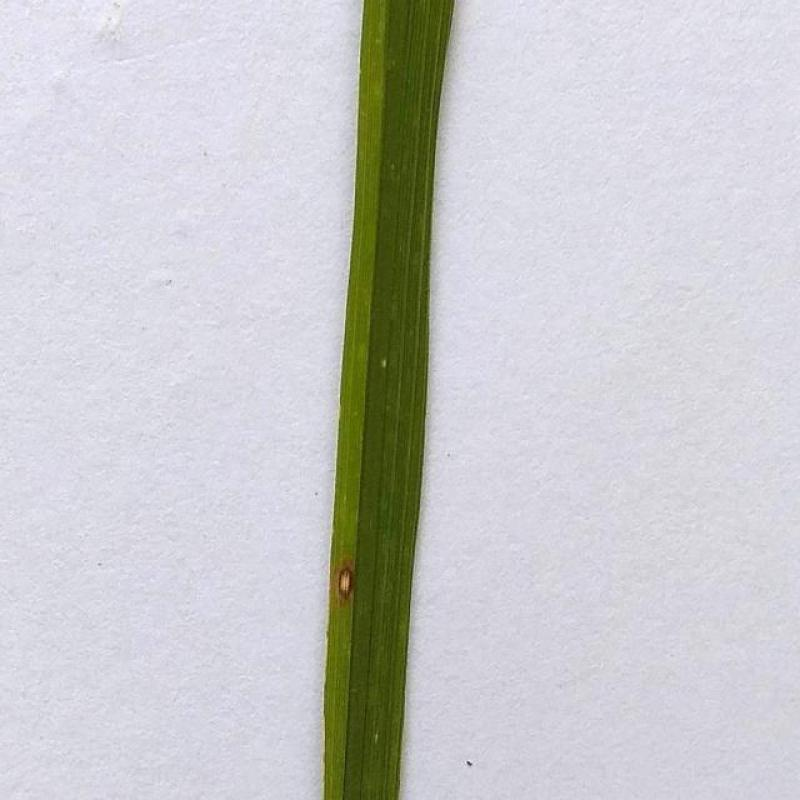Leaf_Blast: (322, 531, 382, 644)
